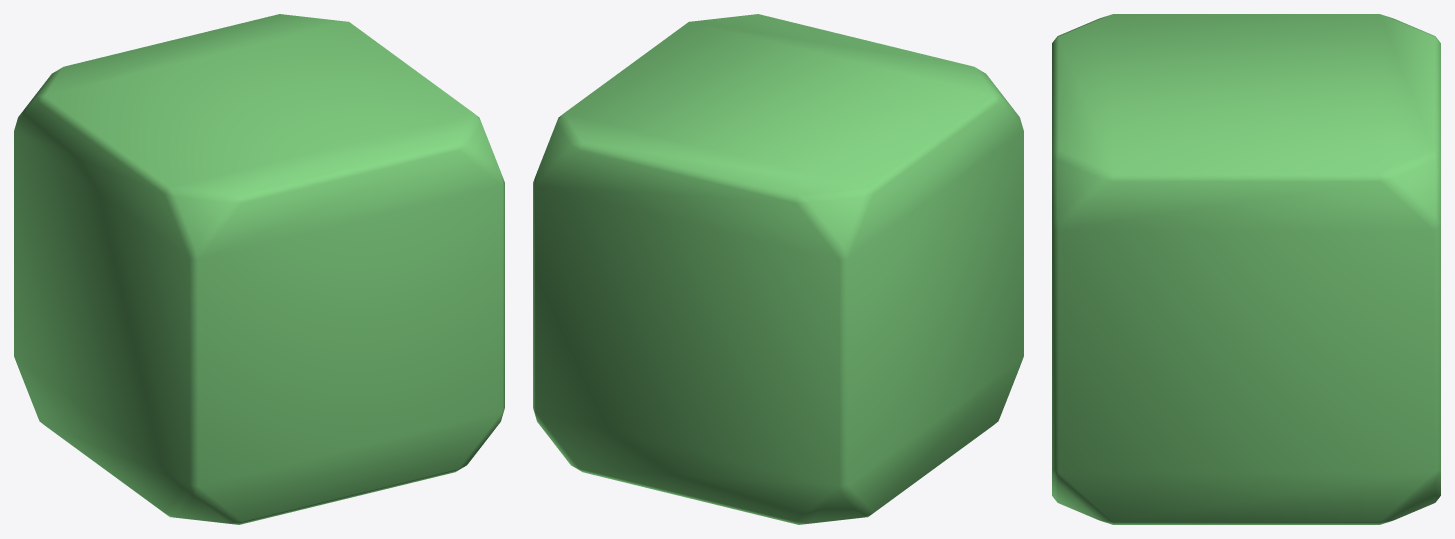
3 views of the same model, side by side, from view 1: azimuth 30°, elevation 25°; view 2: azimuth 150°, elevation 25°; view 3: azimuth 270°, elevation 25° (orthographic). The views are drawn at different scales.
Parts seen in each view (by area): view 1: cube_low; view 2: cube_low; view 3: cube_low.
Boxes of the visible parts, x1,y1,x2,y2 form: cube_low: (14,14,504,524); cube_low: (533,14,1023,524); cube_low: (1052,14,1440,524).
Size of the model in its own units: 20 by 20 by 20.
